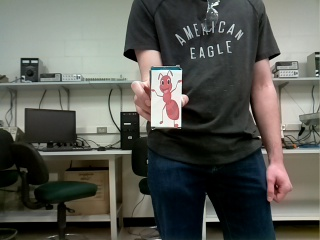Happy: (151, 70, 182, 127)
